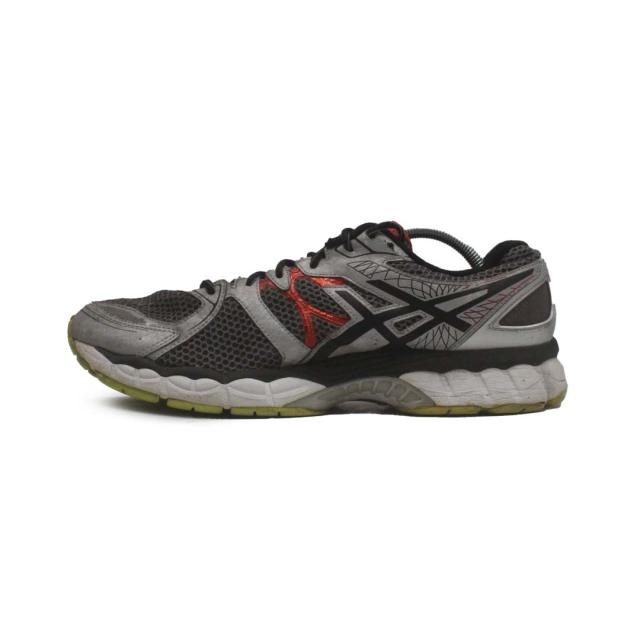heel: (491, 243, 558, 343)
midsole: (73, 334, 568, 421)
uppersole: (68, 220, 501, 365)
